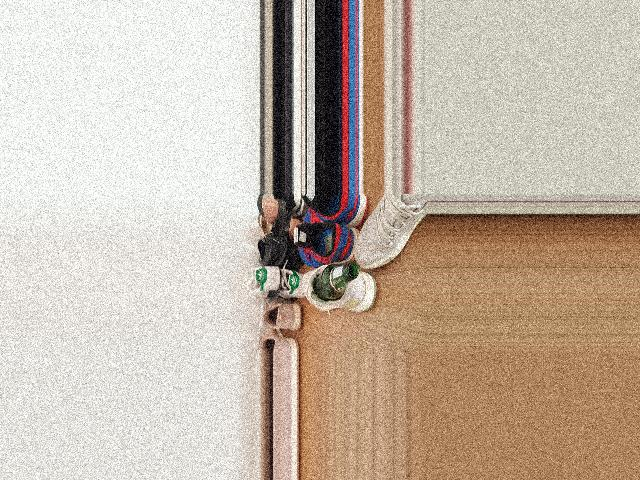beer: (314, 263, 358, 300)
